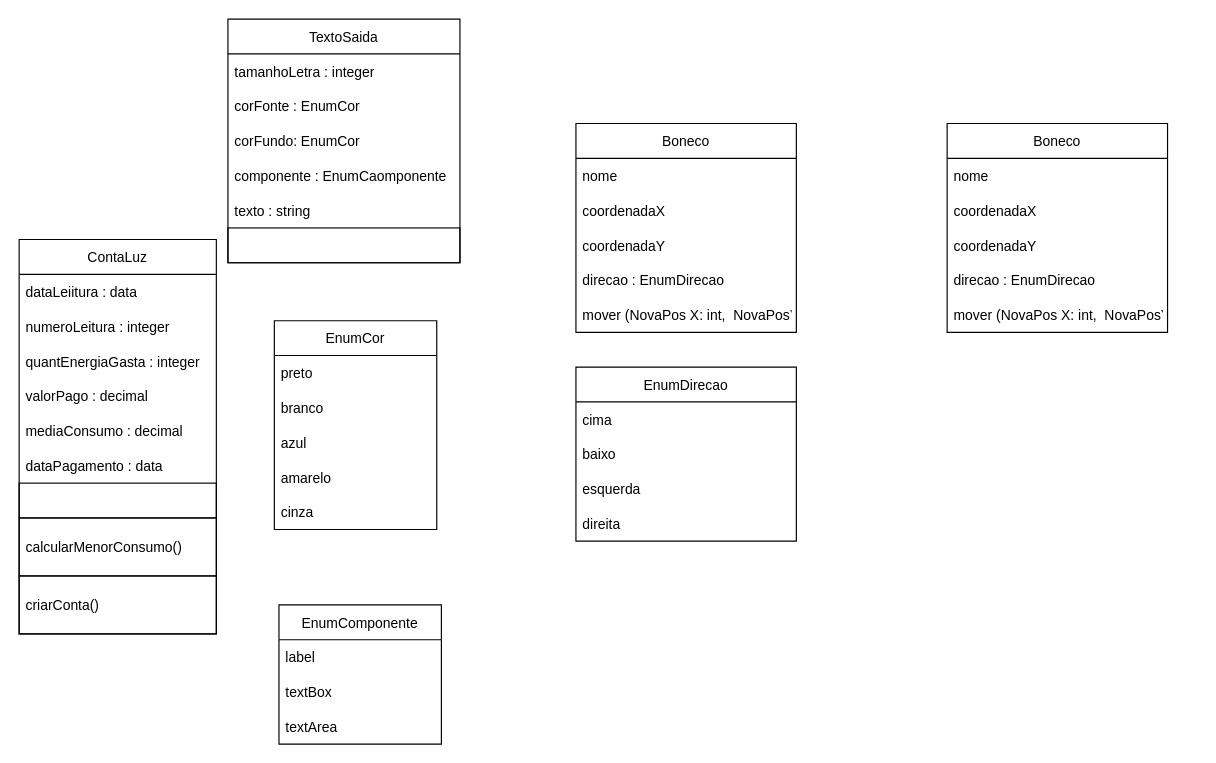
The diagram is 1216 pixels wide and 763 high, and some of its shapes have lost their labels. Each missing label, with the centre of its shape:
calcularMaiorConsumo(): the point at 117,500
mostrarTexto(): the point at 343,245
